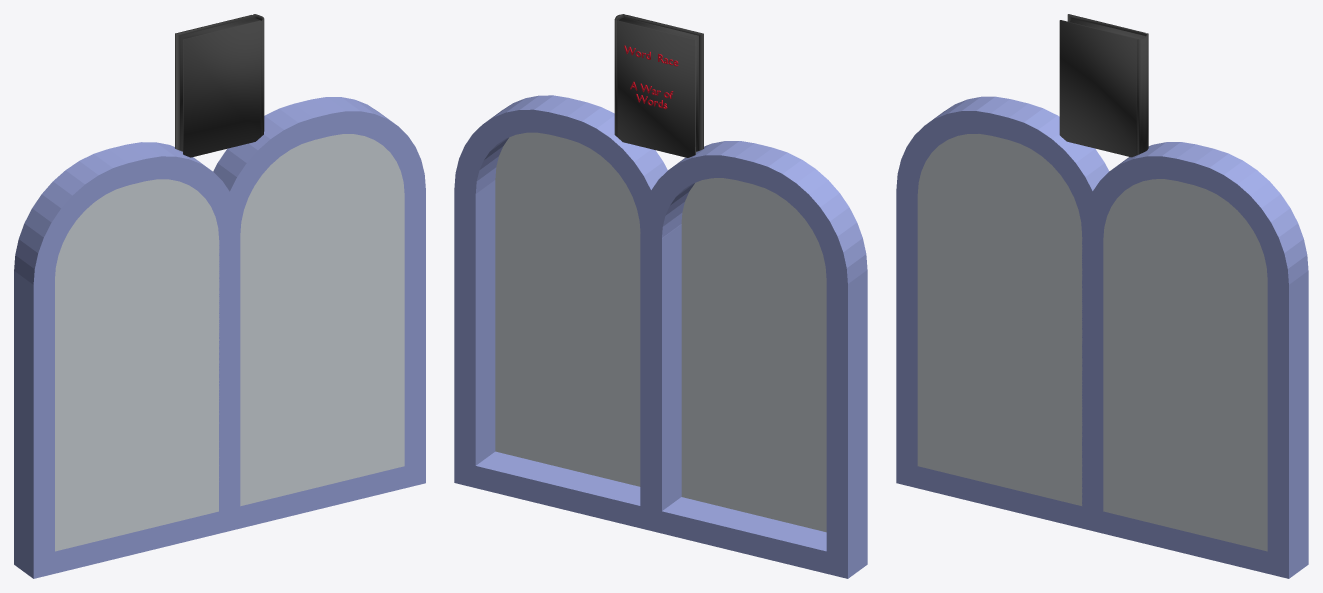
Rendered from Door.fbx.
3 renders of one model, left to right at view 1: azimuth 30°, elevation 25°; view 2: azimuth 150°, elevation 25°; view 3: azimuth 330°, elevation 25°, orthographic.
Parts seen in each view (by area): view 1: Cube; view 2: Cube; view 3: Cube.
Boxes of the visible parts, box(x1,y1,x2,y2) form: Cube: box(14, 14, 425, 578); Cube: box(454, 14, 867, 578); Cube: box(896, 14, 1308, 578).
Bounding box in the file's own units: 851 × 1028 × 73.38.
